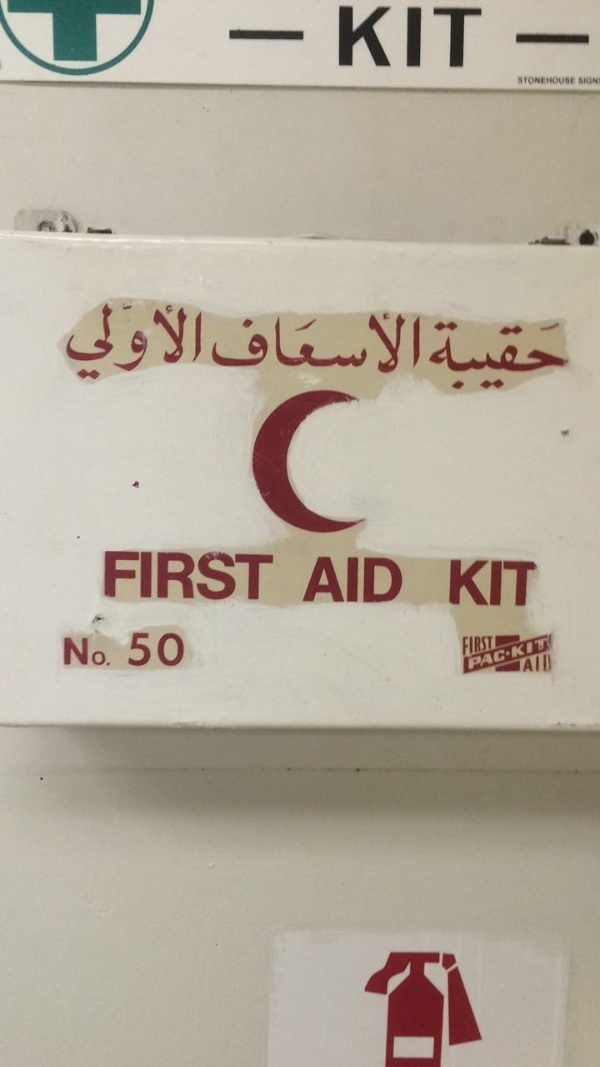text: (65, 301, 80, 384), (81, 301, 96, 384), (97, 301, 112, 384), (113, 301, 128, 384), (129, 301, 144, 384), (145, 301, 160, 384), (161, 301, 176, 384), (177, 301, 192, 384), (433, 317, 448, 398), (449, 317, 464, 398), (465, 317, 480, 398), (481, 317, 496, 398), (497, 317, 512, 398), (513, 317, 528, 398), (529, 317, 544, 398), (545, 317, 560, 398), (353, 1, 368, 71), (369, 1, 384, 71), (385, 1, 400, 71), (401, 1, 416, 71), (417, 1, 432, 71), (433, 1, 448, 71), (449, 1, 464, 71), (465, 1, 480, 71), (193, 301, 205, 384), (225, 311, 240, 376), (241, 311, 256, 376), (257, 311, 272, 376), (273, 311, 288, 376), (289, 311, 304, 376), (305, 311, 320, 376), (321, 311, 336, 376), (337, 311, 352, 376), (353, 311, 368, 376), (369, 311, 384, 376), (385, 311, 400, 376), (401, 311, 416, 376), (210, 311, 224, 376), (339, 1, 352, 71), (561, 317, 571, 398), (113, 551, 128, 602), (129, 551, 144, 602), (145, 551, 160, 602), (161, 551, 176, 602), (177, 551, 192, 602), (193, 551, 208, 602), (209, 551, 224, 602), (225, 551, 240, 602), (241, 551, 256, 602), (257, 551, 272, 602), (305, 552, 320, 603), (321, 552, 336, 603), (337, 552, 352, 603), (353, 552, 368, 603), (369, 552, 384, 603), (385, 552, 400, 603), (449, 559, 464, 609), (465, 559, 480, 609), (481, 559, 496, 609), (497, 559, 512, 609), (513, 559, 528, 609), (129, 632, 144, 667), (145, 632, 160, 667), (161, 632, 176, 667), (465, 637, 480, 672), (481, 637, 496, 672), (497, 637, 512, 672), (513, 637, 528, 672), (529, 637, 544, 672), (426, 317, 432, 398), (103, 551, 112, 602), (65, 637, 80, 667), (81, 637, 96, 667), (97, 637, 111, 667), (529, 559, 537, 609), (465, 636, 480, 657), (529, 652, 544, 673), (241, 26, 256, 45), (257, 26, 272, 45), (273, 26, 288, 45), (289, 26, 304, 45), (177, 632, 185, 667), (481, 636, 494, 657), (417, 311, 421, 376), (228, 26, 240, 45), (529, 31, 544, 46), (545, 31, 560, 46), (561, 31, 576, 46), (577, 31, 591, 46), (545, 637, 551, 672), (516, 31, 528, 46), (62, 301, 64, 384), (561, 76, 577, 86), (401, 552, 404, 603), (529, 76, 544, 86), (545, 76, 560, 86), (545, 652, 552, 673), (578, 76, 592, 86), (481, 1, 483, 71), (517, 76, 528, 86), (523, 652, 528, 673), (593, 76, 600, 86), (305, 26, 308, 45), (273, 551, 274, 602), (463, 636, 464, 657)
